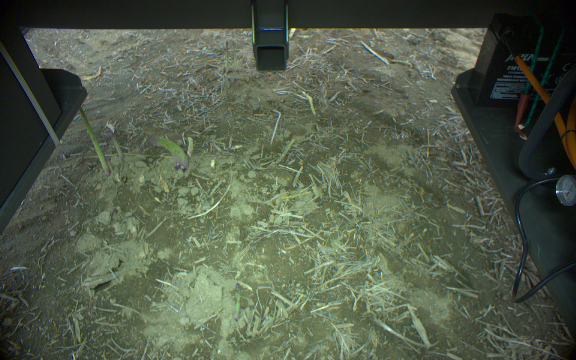aspa: (80, 109, 110, 174), (147, 133, 188, 170), (110, 129, 123, 160), (230, 40, 240, 71), (223, 38, 232, 70), (185, 135, 196, 158)
